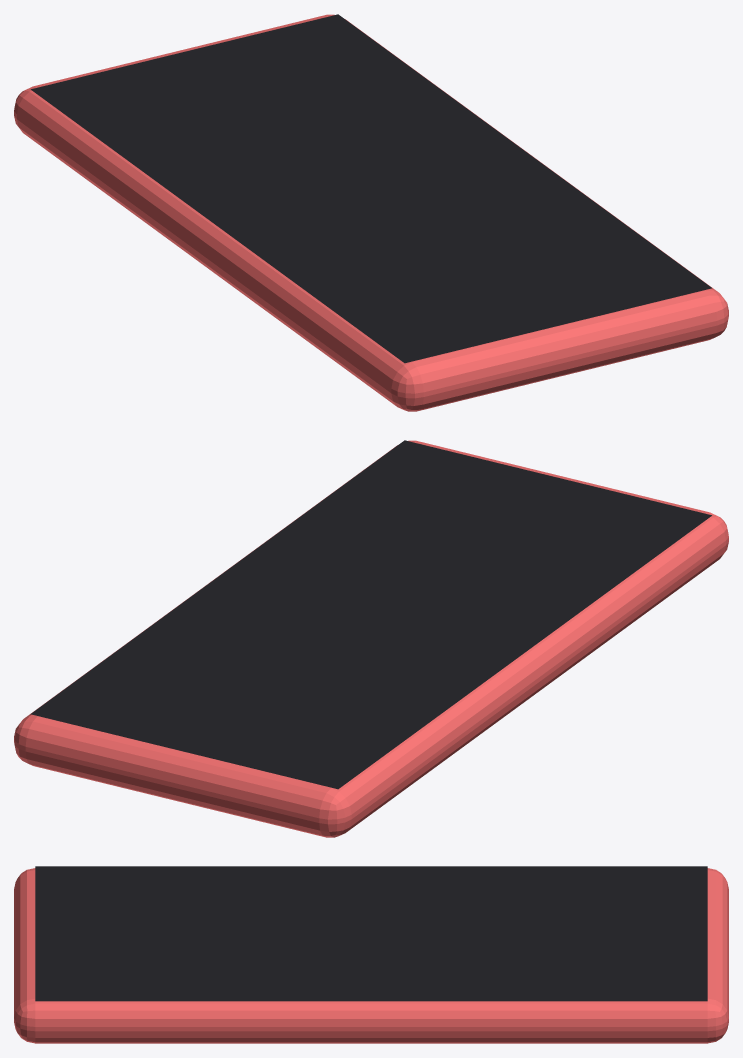
File: google-pixel-model-365-mid-range-2022.glb
The picture shows the model from 3 angles, top to bottom: view 1: azimuth 30°, elevation 25°; view 2: azimuth 150°, elevation 25°; view 3: azimuth 270°, elevation 25°; orthographic projection. The views are drawn at different scales.
Parts seen in each view (by area): view 1: Phone_Screen, Phone_Body; view 2: Phone_Screen, Phone_Body; view 3: Phone_Screen, Phone_Body.
Boxes of the visible parts, x1=… form: Phone_Screen: x1=31, y1=14, x2=711, y2=363; Phone_Body: x1=14, y1=14, x2=728, y2=411; Phone_Screen: x1=31, y1=440, x2=711, y2=789; Phone_Body: x1=14, y1=440, x2=728, y2=837; Phone_Screen: x1=35, y1=866, x2=707, y2=1001; Phone_Body: x1=14, y1=868, x2=728, y2=1043.
Size of the model in its own units: 0.0704 by 0.0097 by 0.1451.
